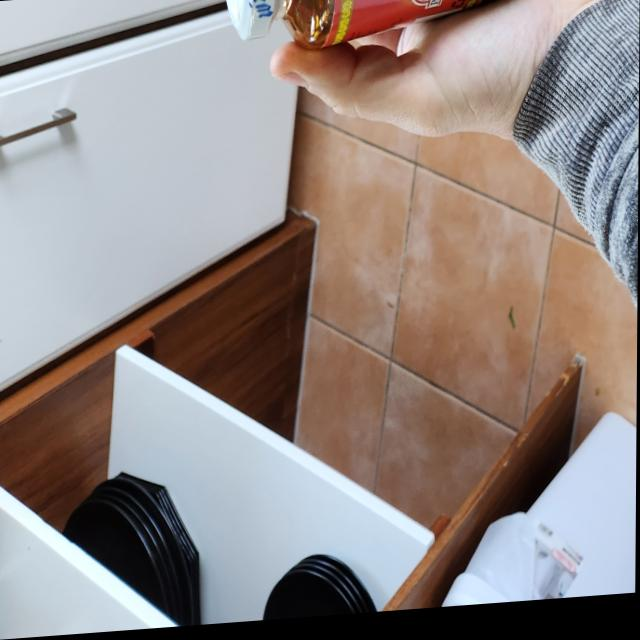laksa paste: (211, 0, 545, 60)
